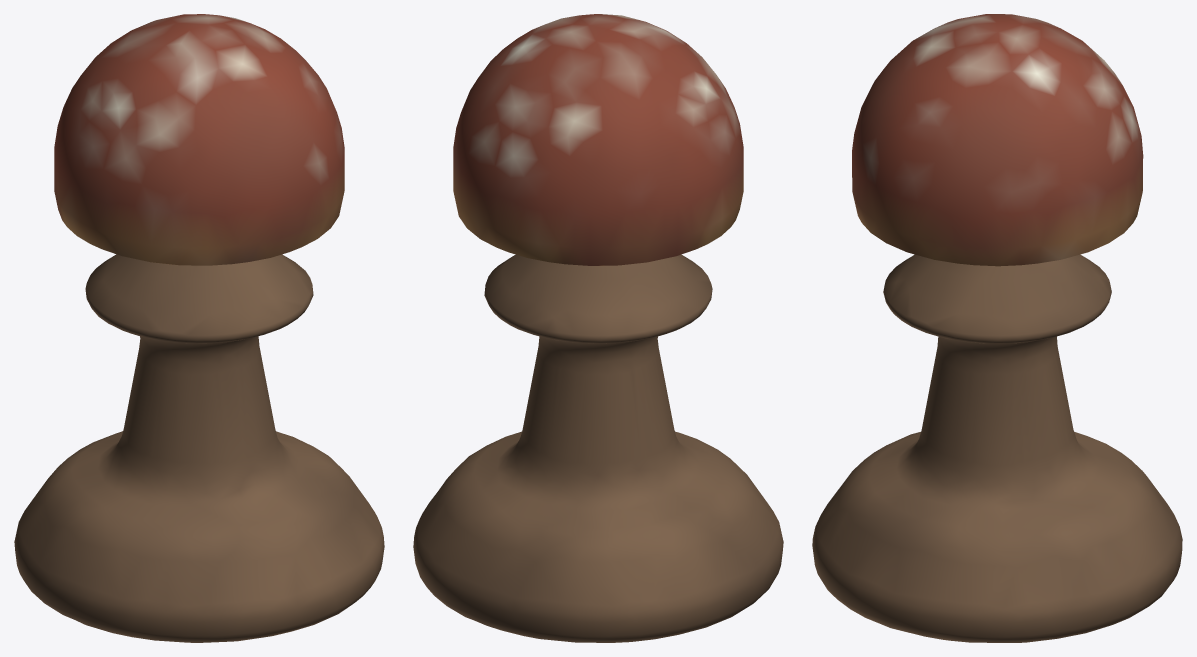
File: pawn-dark.glb
The picture shows the model from 3 angles, left to right: view 1: azimuth 30°, elevation 25°; view 2: azimuth 150°, elevation 25°; view 3: azimuth 270°, elevation 25°; orthographic projection.
Parts seen in each view (by area): view 1: body; view 2: body; view 3: body.
Boxes of the visible parts, x1=… form: body: x1=14, y1=14, x2=384, y2=642; body: x1=413, y1=14, x2=783, y2=642; body: x1=812, y1=14, x2=1182, y2=642.
Size of the model in its own units: 1.73 by 2.83 by 1.73.
